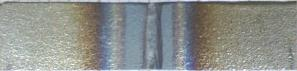soldas: (76, 2, 219, 71)
